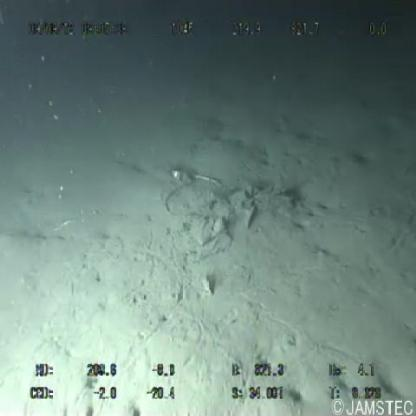Rác: (167, 166, 192, 185)
